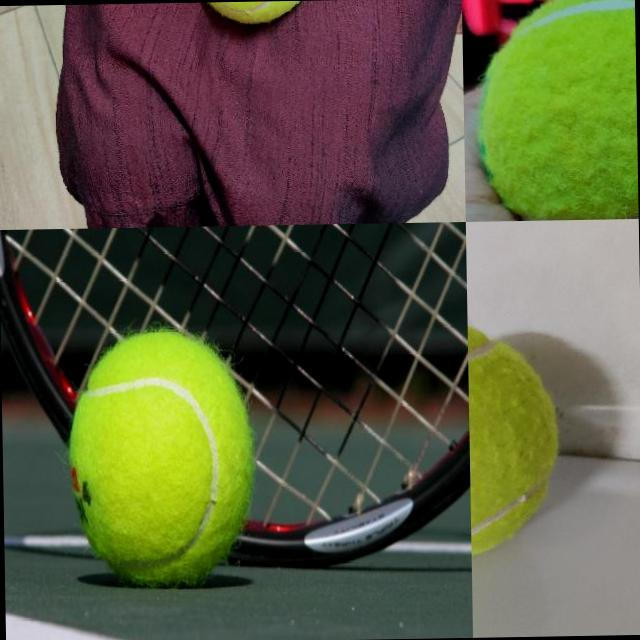Tennis Ball: (66, 326, 256, 586), (473, 0, 637, 220), (467, 314, 565, 564)
